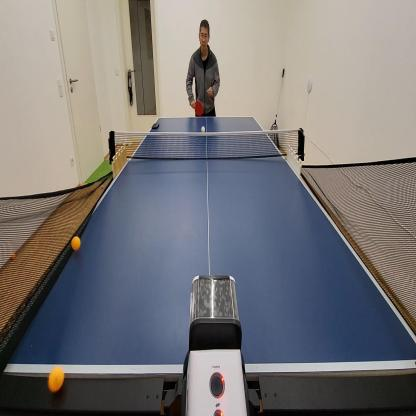Ball: (49, 367, 64, 393), (72, 236, 81, 250), (201, 125, 205, 133), (12, 251, 16, 259), (101, 181, 104, 189)
